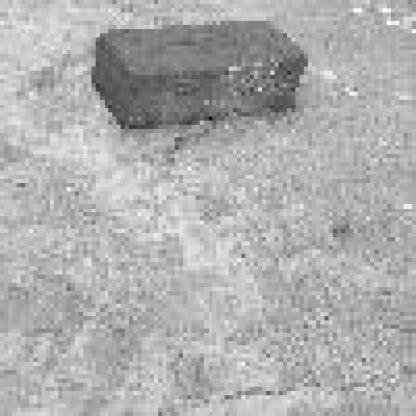brick: (93, 20, 311, 127)
